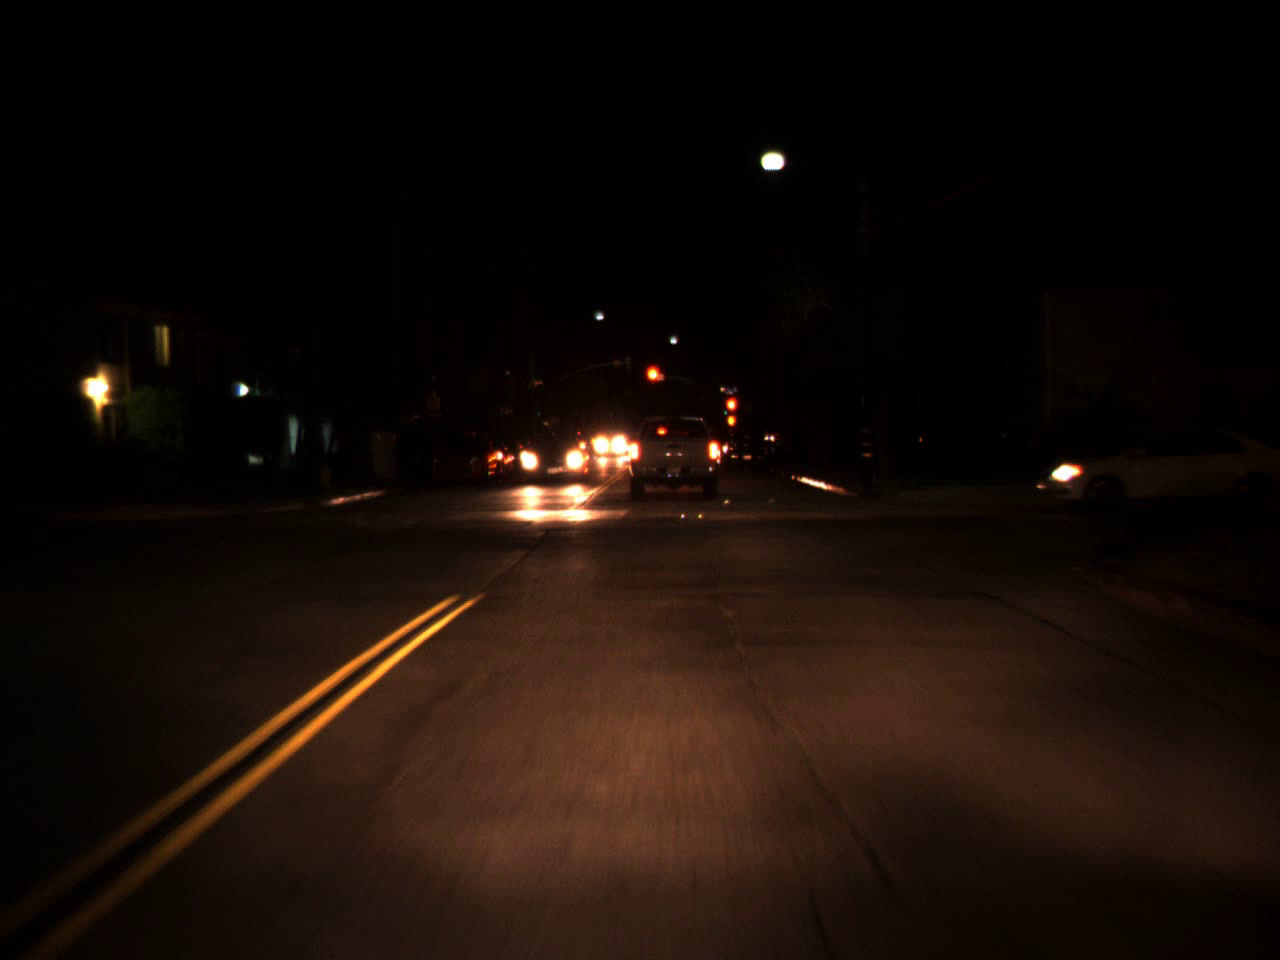stop: (643, 362, 665, 399), (724, 396, 737, 425)
